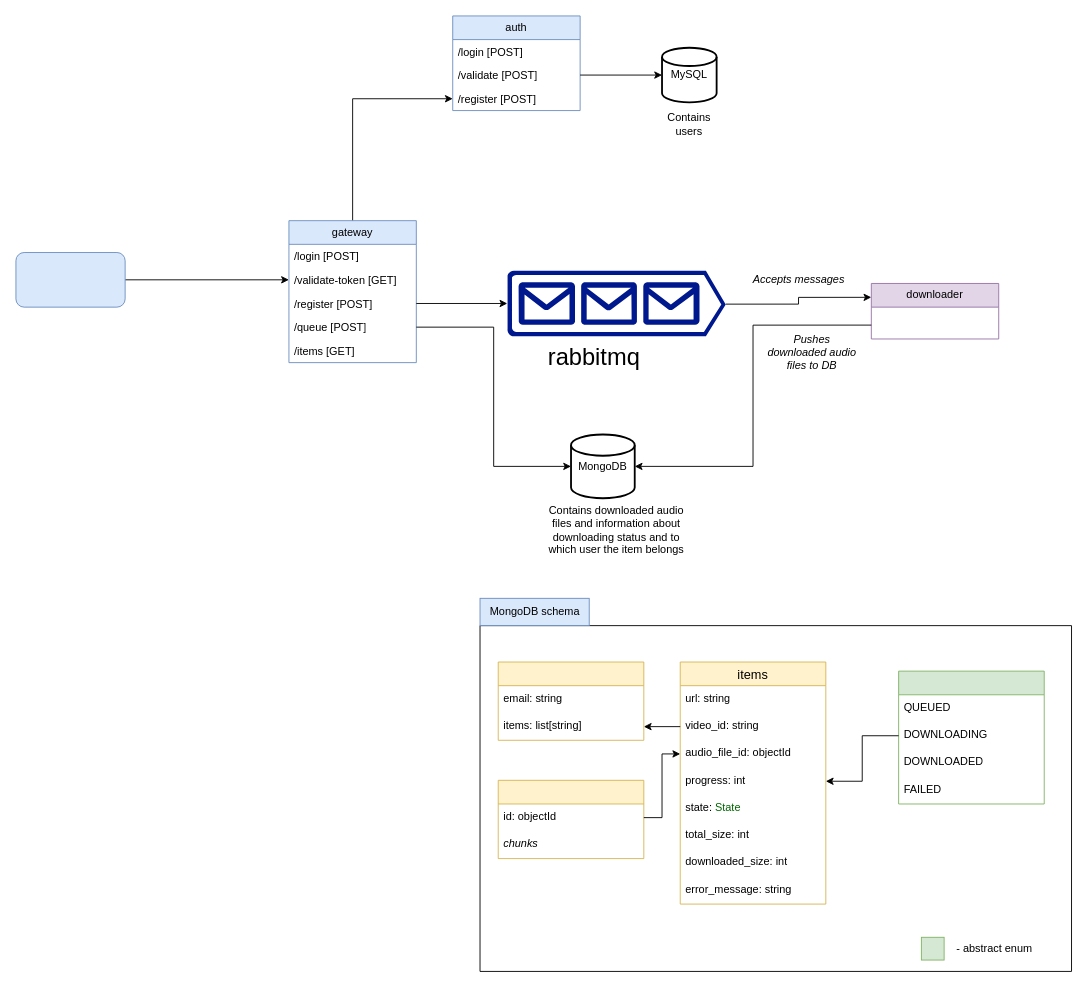
Image size: 1087x987. Some labels were removed from this diagram. Each missing label, with the box of its shape:
audios: (497, 779, 644, 859)
frontend Nextjs: (15, 252, 125, 307)
State: (898, 670, 1044, 804)
users: (497, 661, 644, 740)
